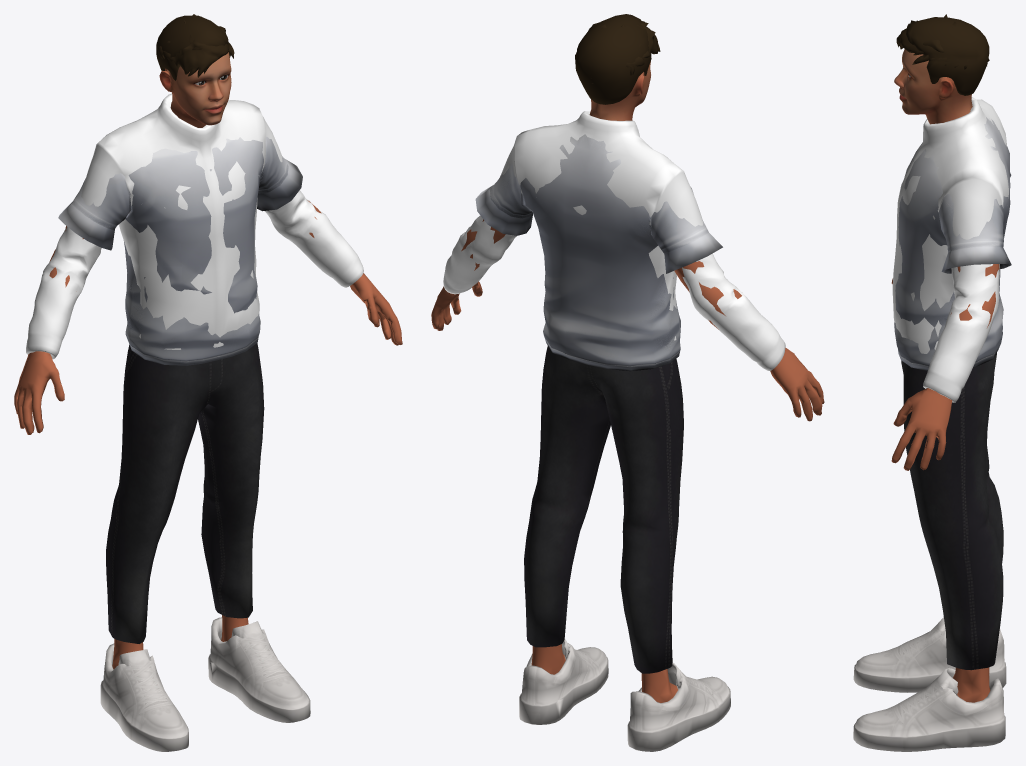
3 renders of one model, left to right at view 1: azimuth 30°, elevation 25°; view 2: azimuth 150°, elevation 25°; view 3: azimuth 270°, elevation 25°, orthographic.
Parts seen in each view (by area): view 1: Aurora_Legs, Shirt, Aurora_Shirt, Aurora_Shoes, Aurora_Shirt.001, Aurora_BodySkin, Aurora_SkinHead, Aurora_Hair, Hair_2; view 2: Aurora_Legs, Aurora_Shirt, Shirt, Aurora_Shoes, Aurora_Shirt.001, Aurora_BodySkin, Aurora_Hair, Aurora_SkinHead; view 3: Aurora_Legs, Shirt, Aurora_Shoes, Aurora_Shirt, Aurora_BodySkin, Aurora_Hair, Aurora_Shirt.001, Aurora_SkinHead, Hair_2.
Part boxes in pixels (<box>): Aurora_Legs: <box>106,343,264,643</box>; Shirt: <box>26,93,363,359</box>; Aurora_Shirt: <box>72,137,288,365</box>; Aurora_Shoes: <box>100,617,310,751</box>; Aurora_Shirt.001: <box>58,140,302,365</box>; Aurora_BodySkin: <box>14,200,402,669</box>; Aurora_SkinHead: <box>159,52,231,127</box>; Aurora_Hair: <box>156,15,230,80</box>; Hair_2: <box>156,14,234,77</box>; Aurora_Legs: <box>524,346,683,673</box>; Aurora_Shirt: <box>489,134,708,371</box>; Shirt: <box>443,111,785,370</box>; Aurora_Shoes: <box>519,638,730,751</box>; Aurora_Shirt.001: <box>475,134,722,370</box>; Aurora_BodySkin: <box>431,219,824,702</box>; Aurora_Hair: <box>575,14,651,104</box>; Aurora_SkinHead: <box>589,61,650,120</box>; Aurora_Legs: <box>901,353,1003,670</box>; Shirt: <box>892,97,1008,402</box>; Aurora_Shoes: <box>853,617,1006,751</box>; Aurora_Shirt: <box>894,117,1010,371</box>; Aurora_BodySkin: <box>891,264,999,702</box>; Aurora_Hair: <box>906,17,989,95</box>; Aurora_Shirt.001: <box>895,118,1011,369</box>; Aurora_SkinHead: <box>894,49,972,124</box>; Hair_2: <box>896,14,989,69</box>.
Bounding box in the file's own units: 1.06 × 1.86 × 0.3857.
2 materials, 1 textured.
